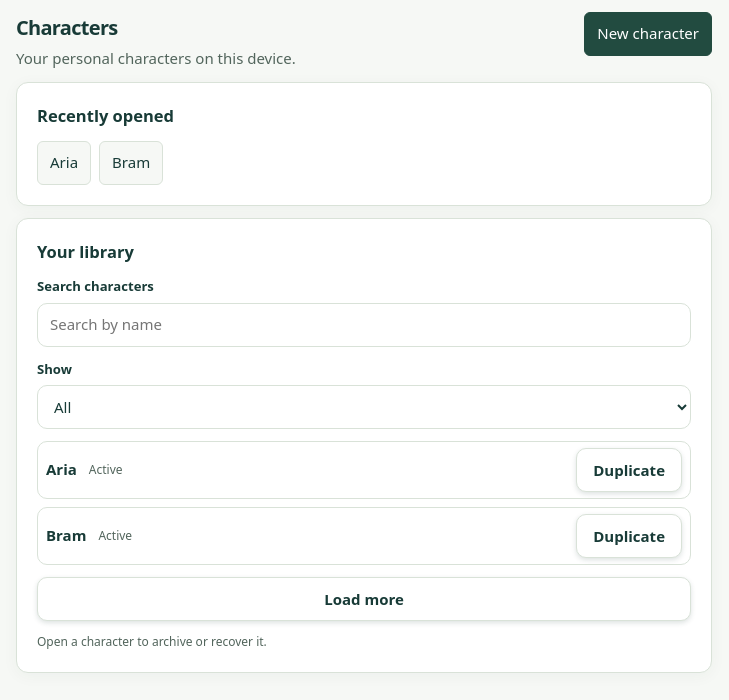
it: CharacterLibrary › searches loaded pages client-side and offers load more while pages remain
expect the list item with test id "library-row-id-a" is shown: met, box [37, 441, 691, 499]
Type "br" into the search field with test id "character-library-search" at (364, 325), box [37, 303, 691, 347]
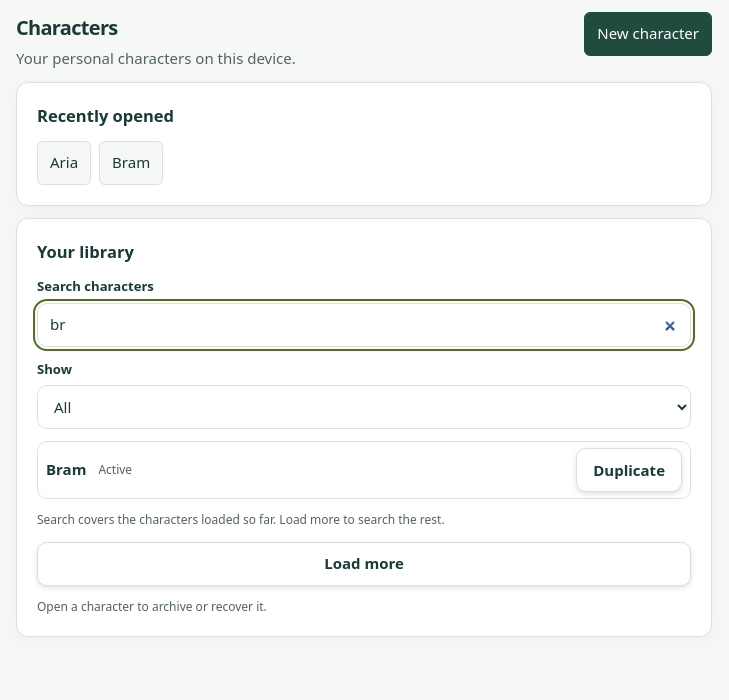
expect the list item with test id "library-row-id-b" is shown: met, box [37, 441, 691, 499]
expect the list item with test id "library-row-id-a" is gone: met
expect the text "covers the characters loaded so far" is shown: met, box [37, 511, 445, 528]
Clear the search field with test id "character-library-search" at (364, 325), box [37, 303, 691, 347]
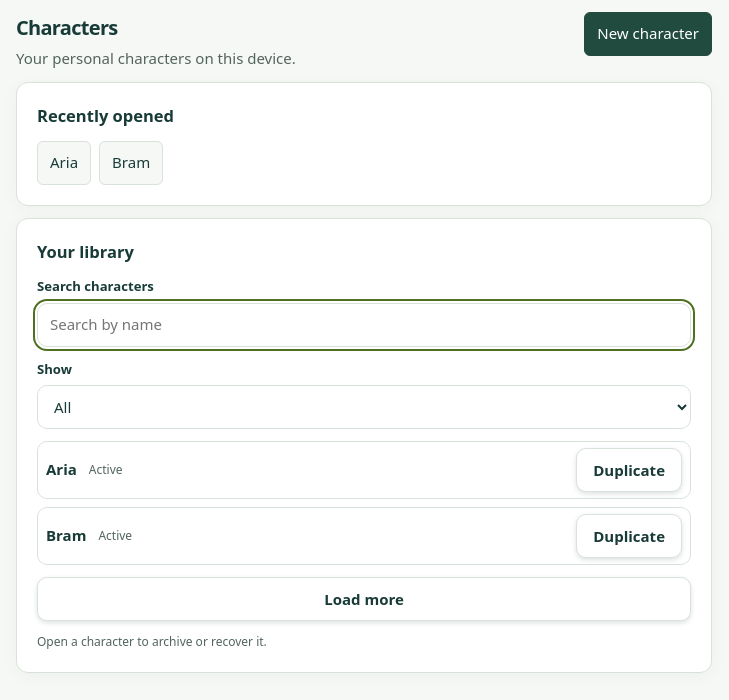
Click the button with test id "character-library-load-more" at (364, 599), box [37, 577, 691, 621]
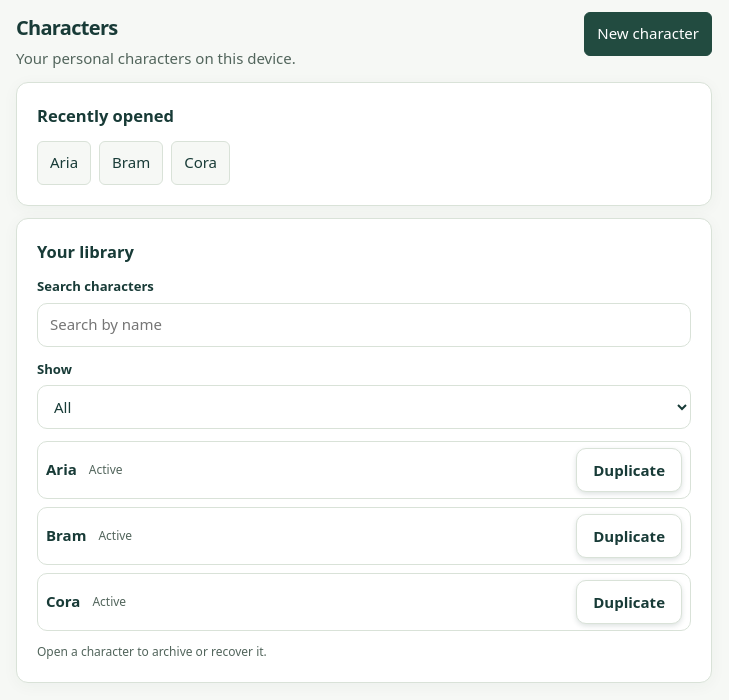
expect the list item with test id "library-row-id-c" is shown: met, box [37, 573, 691, 631]
